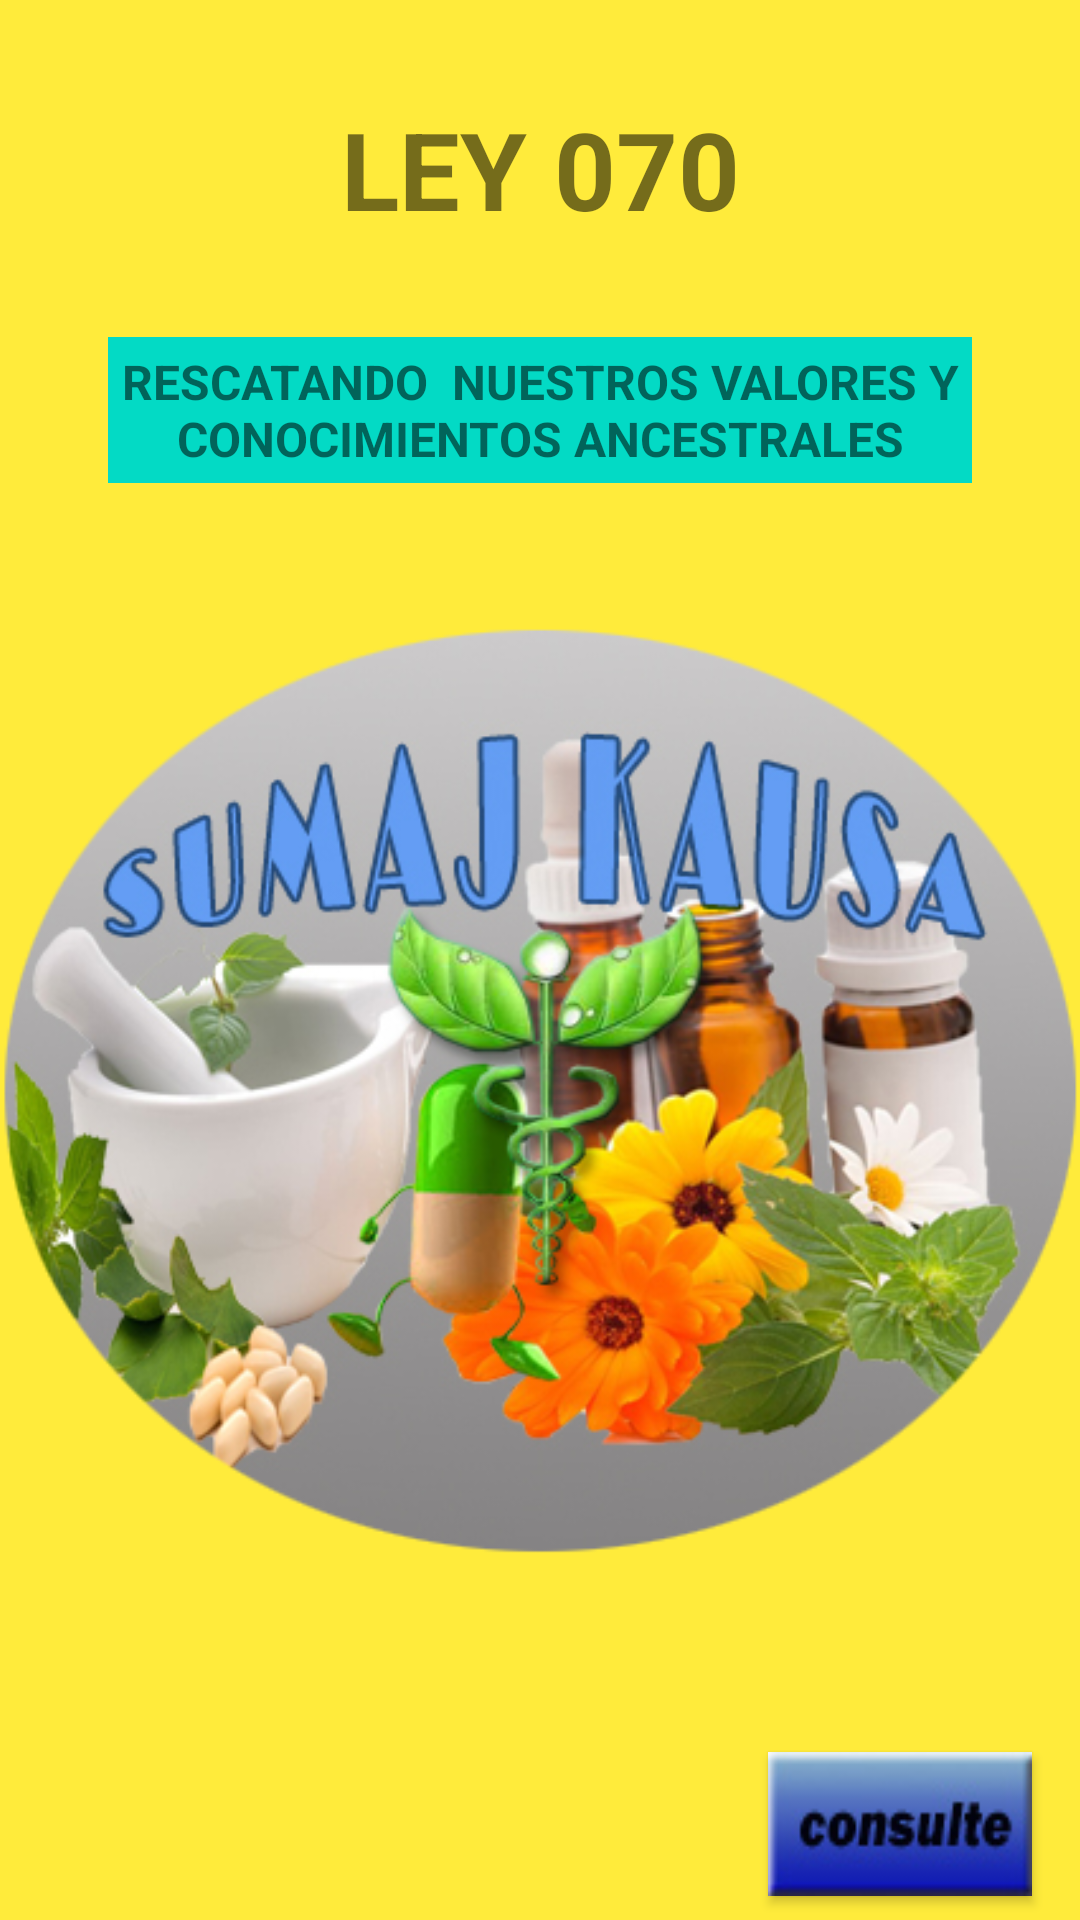

Screen size 1080w x 1920h. Icon name, then its box in pixels as box(x1, y1, x2, y2):
boton: box(768, 1752, 1032, 1896)
